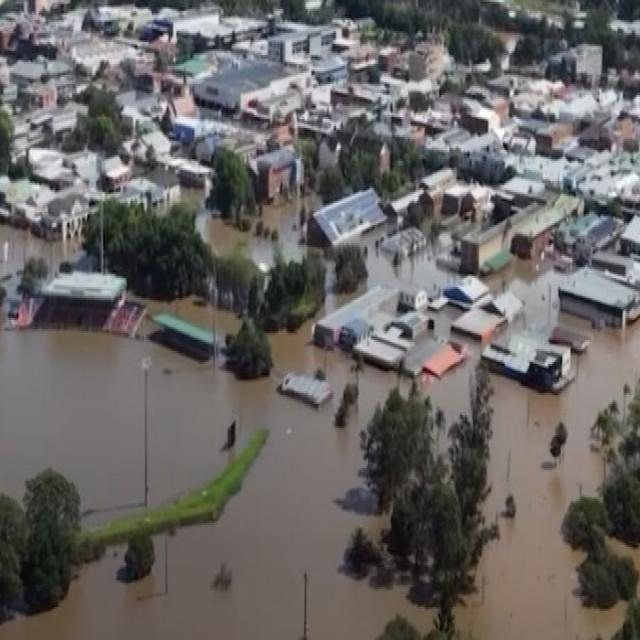flood: (0, 330, 434, 640), (459, 322, 640, 640), (197, 201, 308, 268), (481, 258, 565, 336), (149, 296, 241, 356), (368, 245, 461, 298), (0, 224, 82, 276), (423, 358, 480, 426), (433, 309, 460, 334)
house: (16, 266, 132, 334), (314, 284, 400, 359), (198, 58, 302, 117), (483, 331, 572, 396), (562, 265, 637, 339), (507, 184, 581, 258), (308, 184, 386, 247), (274, 24, 350, 82), (453, 222, 513, 274), (258, 148, 298, 204), (39, 194, 84, 242), (333, 79, 389, 117), (284, 372, 338, 411), (119, 88, 173, 125), (164, 8, 224, 39), (580, 215, 623, 258), (454, 140, 502, 178), (408, 40, 449, 82), (22, 10, 63, 51), (524, 117, 572, 152), (161, 156, 213, 188), (448, 272, 488, 312), (564, 44, 606, 79), (21, 74, 60, 111), (5, 192, 42, 229), (564, 209, 598, 248), (601, 162, 640, 196), (469, 101, 507, 134), (100, 156, 131, 194), (92, 7, 125, 38), (420, 168, 454, 193), (417, 190, 442, 218), (446, 182, 464, 215)
